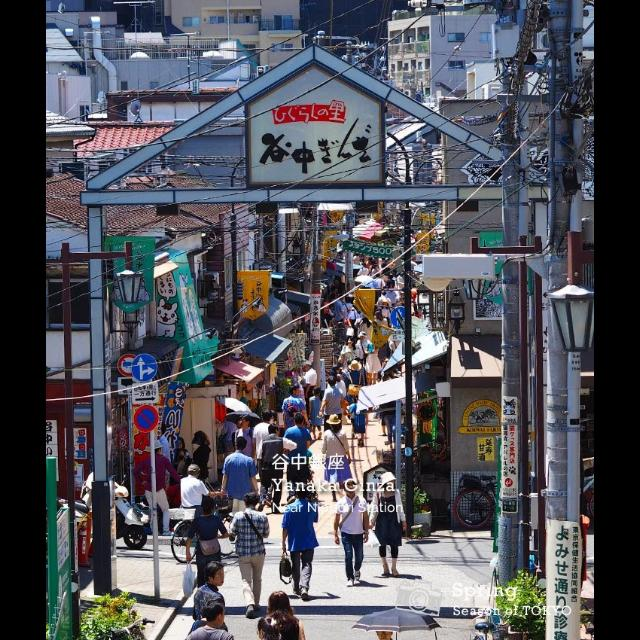head: (202, 599, 228, 629), (206, 562, 226, 588), (268, 592, 290, 612), (200, 497, 218, 517), (245, 492, 259, 508), (187, 464, 201, 480), (238, 414, 252, 430), (235, 437, 248, 453), (297, 484, 311, 498), (342, 479, 356, 493), (196, 430, 208, 446), (382, 476, 396, 488), (269, 424, 281, 438), (292, 413, 306, 425), (262, 411, 274, 423), (290, 384, 302, 396), (152, 444, 162, 456), (328, 418, 339, 428), (312, 387, 322, 398), (384, 374, 394, 384), (328, 378, 338, 387), (348, 336, 357, 346), (356, 396, 364, 406), (304, 362, 312, 372), (384, 358, 392, 368), (360, 332, 368, 340), (338, 295, 346, 303), (371, 337, 377, 343)
person: (181, 495, 231, 621), (227, 491, 271, 621), (279, 482, 321, 602), (132, 439, 182, 538), (368, 471, 409, 579), (220, 435, 260, 545), (178, 462, 226, 550), (332, 478, 370, 588), (258, 422, 298, 516), (281, 412, 313, 508), (321, 414, 355, 504), (182, 430, 212, 520), (253, 408, 279, 509), (282, 383, 312, 462), (234, 413, 258, 502), (318, 375, 346, 447), (375, 356, 403, 422), (382, 388, 406, 452), (338, 336, 360, 388), (348, 394, 368, 448), (302, 361, 320, 421), (364, 337, 384, 391), (355, 331, 375, 381), (308, 385, 324, 441), (332, 295, 346, 343)
